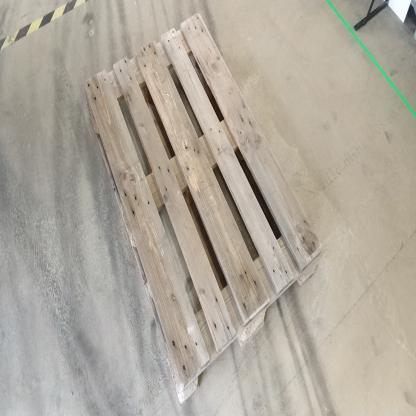BoxFace: (79, 6, 327, 413)
